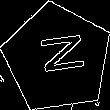N_W: (30, 35, 85, 82)
